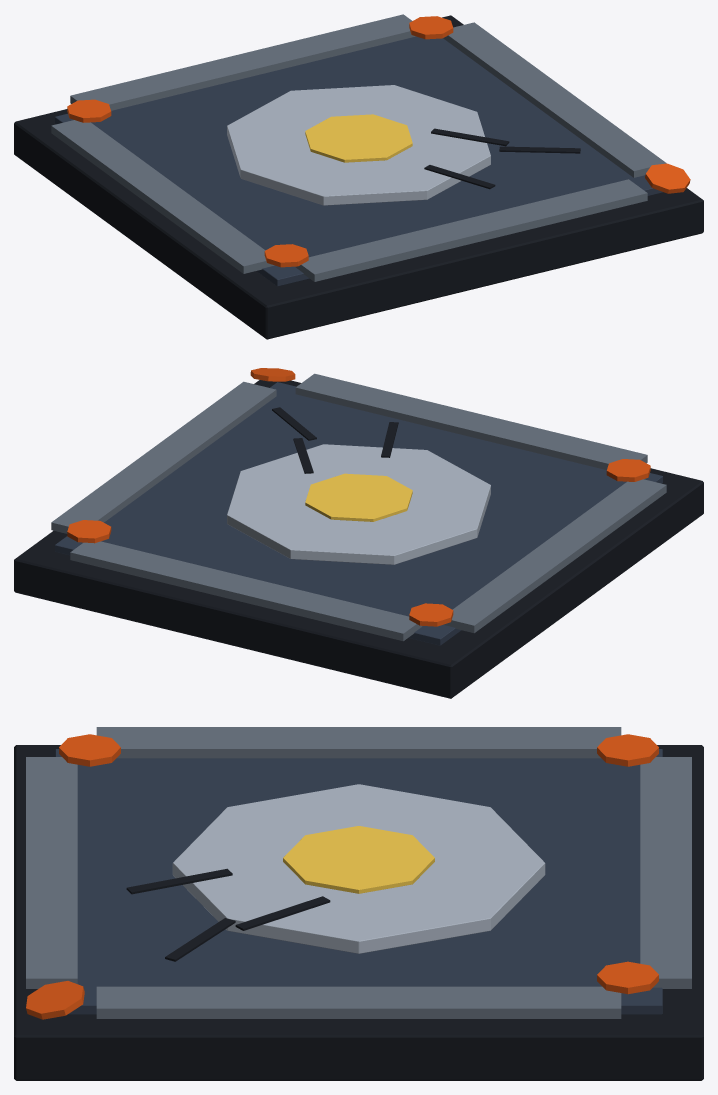
File: floor_module__damaged.glb
The picture shows the model from 3 angles, top to bottom: view 1: azimuth 30°, elevation 25°; view 2: azimuth 150°, elevation 25°; view 3: azimuth 270°, elevation 25°; orthographic projection. The views are drawn at different scales.
Visible parts, largest first — view 1: ROLE_primary, ROLE_rubber, ROLE_bareMetal, ROLE_secondary, ROLE_warning, ROLE_accent; view 2: ROLE_primary, ROLE_rubber, ROLE_bareMetal, ROLE_secondary, ROLE_warning, ROLE_accent; view 3: ROLE_primary, ROLE_bareMetal, ROLE_rubber, ROLE_secondary, ROLE_warning, ROLE_accent.
Boxes of the visible parts, box(x1,y1,x2,y2) form: ROLE_primary: box(55, 36, 662, 286); ROLE_rubber: box(14, 15, 703, 339); ROLE_bareMetal: box(51, 14, 666, 281); ROLE_secondary: box(227, 85, 490, 205); ROLE_warning: box(305, 114, 412, 162); ROLE_accent: box(67, 16, 690, 267); ROLE_primary: box(55, 382, 662, 645); ROLE_rubber: box(14, 380, 703, 698); ROLE_bareMetal: box(51, 373, 666, 641); ROLE_secondary: box(227, 444, 490, 564); ROLE_warning: box(305, 473, 412, 521); ROLE_accent: box(67, 368, 650, 626); ROLE_primary: box(55, 749, 662, 1014); ROLE_bareMetal: box(26, 727, 691, 1018); ROLE_rubber: box(14, 745, 703, 1080); ROLE_secondary: box(172, 784, 545, 953); ROLE_warning: box(283, 826, 434, 893); ROLE_accent: box(26, 734, 658, 1019).
Size of the model in its own units: 3.97 by 0.5 by 3.97.
